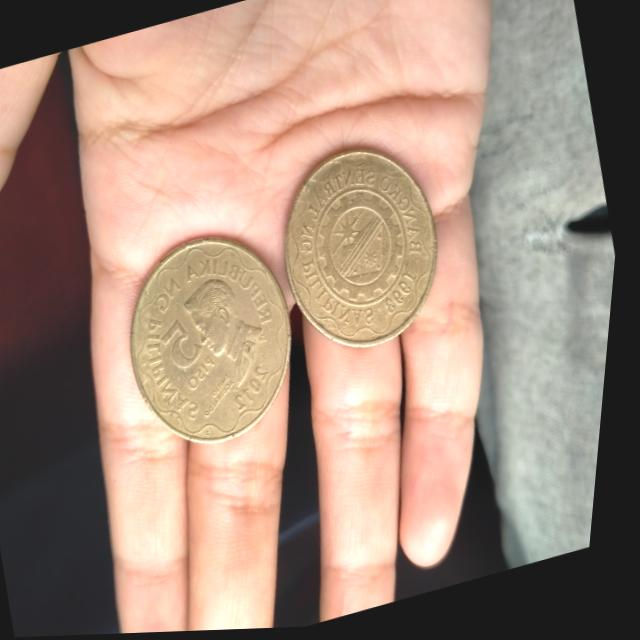5_Old_Back: (262, 143, 467, 373)
5_Old_Front: (143, 303, 245, 411)
